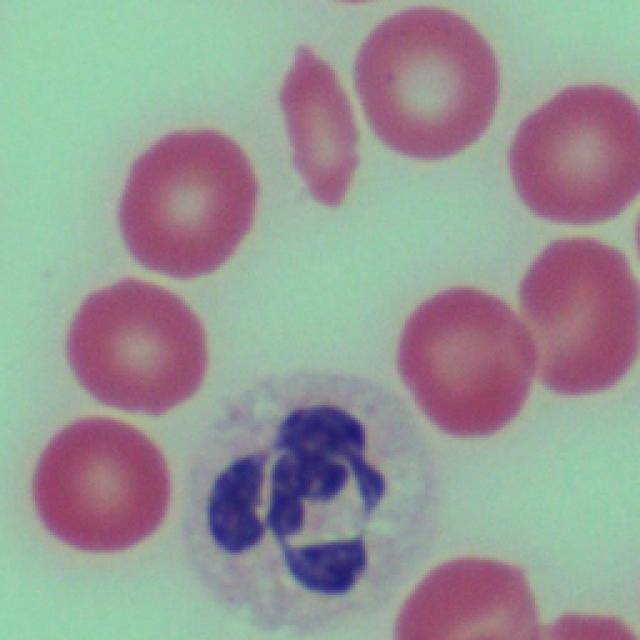RBC: (352, 0, 500, 171), (391, 279, 529, 447), (110, 116, 252, 279), (62, 272, 210, 419), (32, 406, 172, 557), (515, 232, 638, 402), (502, 79, 640, 229), (275, 33, 361, 206), (388, 547, 540, 639)
WBC: (214, 390, 384, 592)
